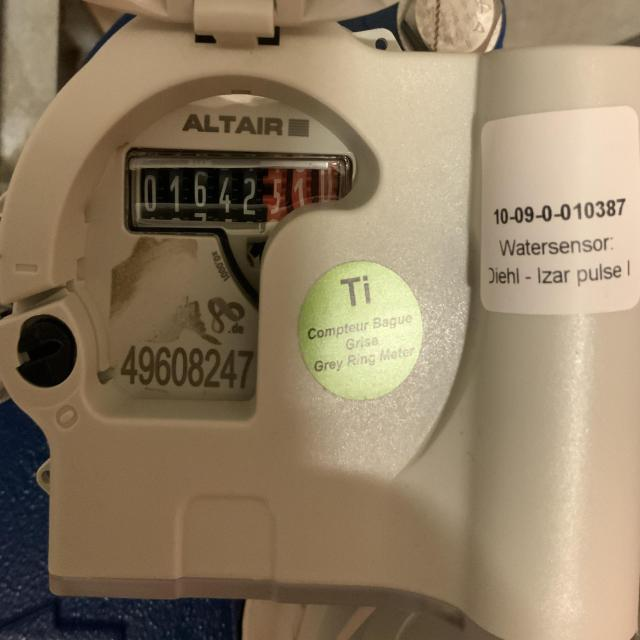gaz_meter: (0, 9, 475, 457)
indication: (136, 160, 345, 221)
